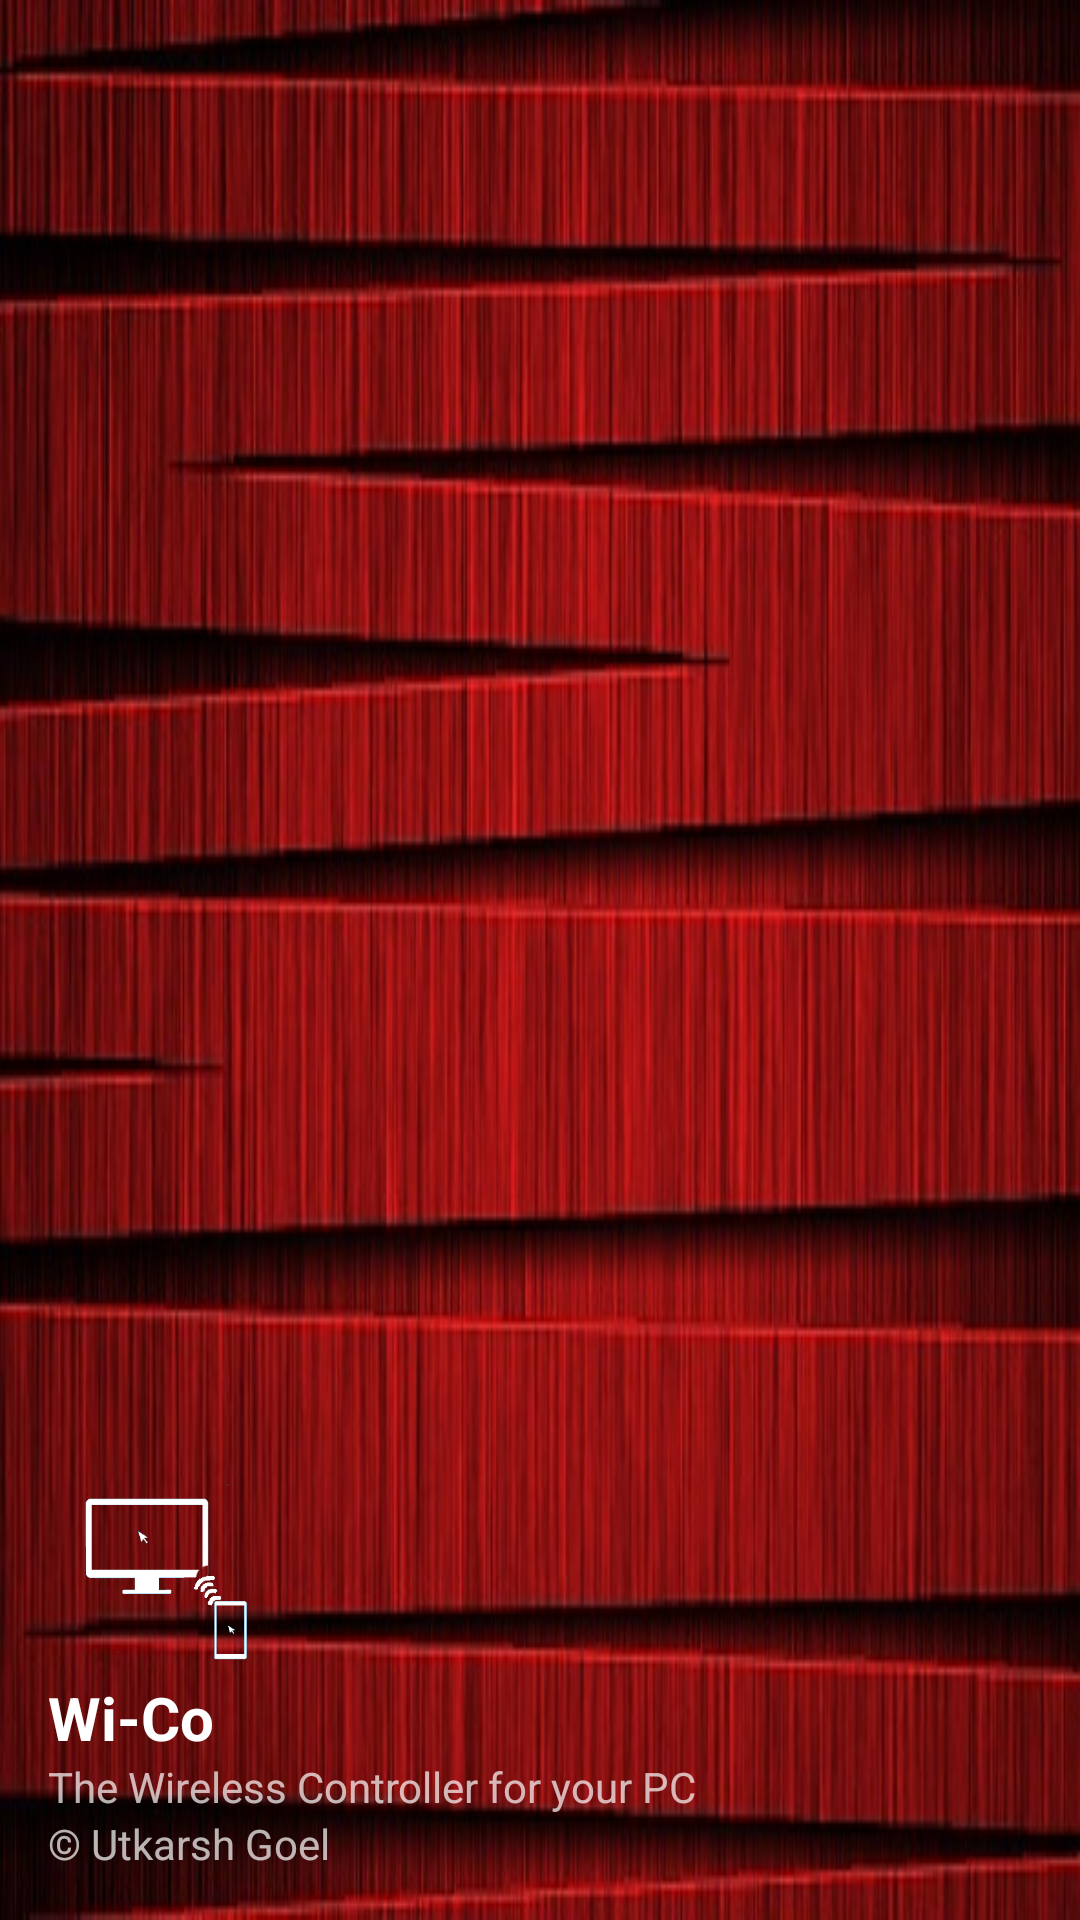

Where to tap for icons on this 1080px×1920px app screen, as point (x, y):
remote control: point (168, 1554)
